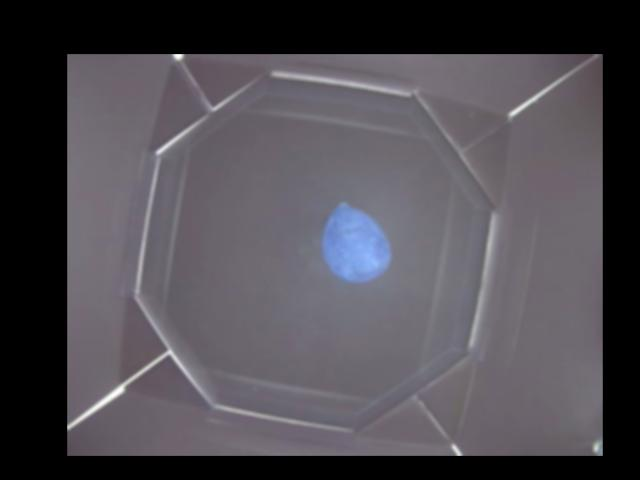Potato: (324, 199, 392, 281)
